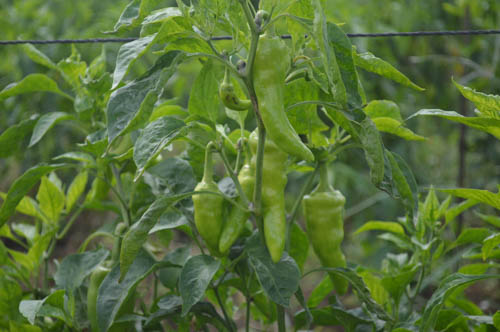ChiliPepper: (250, 33, 312, 166), (250, 128, 291, 264), (298, 194, 350, 289), (217, 169, 252, 261), (191, 183, 222, 247)
